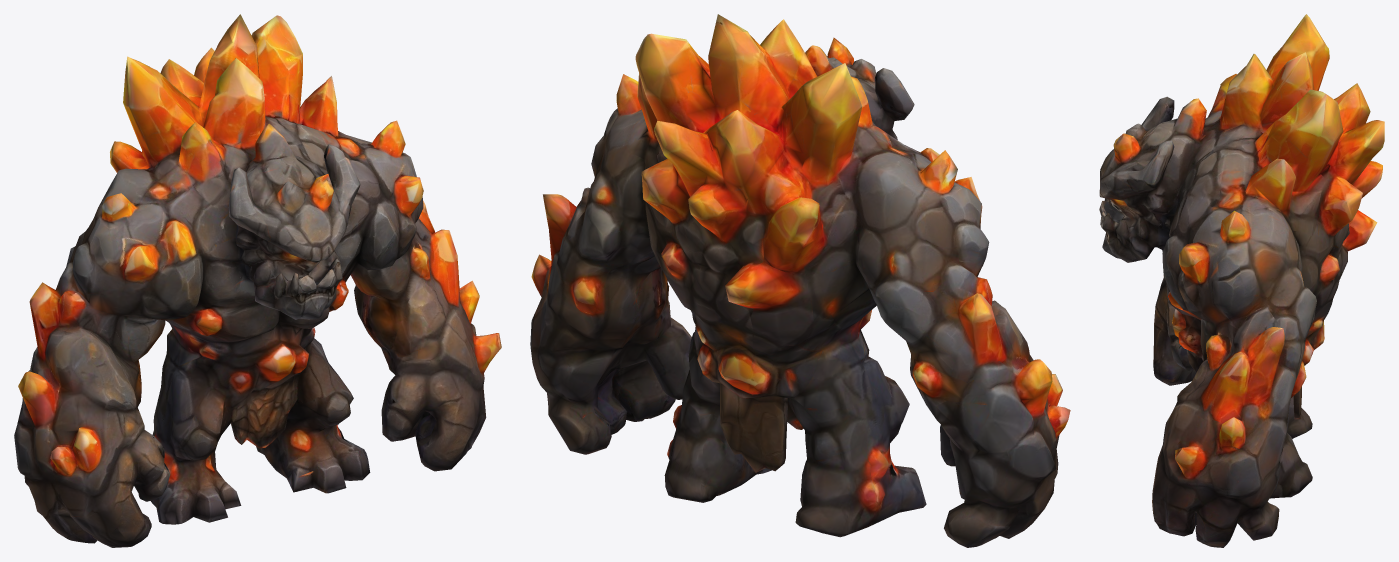
Rendered from mf_golem.glb.
The picture shows the model from 3 angles, left to right: view 1: azimuth 30°, elevation 25°; view 2: azimuth 150°, elevation 25°; view 3: azimuth 270°, elevation 25°; orthographic projection. The views are drawn at different scales.
Parts seen in each view (by area): view 1: Model; view 2: Model; view 3: Model.
Boxes of the visible parts, x1,y1,x2,y2 form: Model: (14, 14, 501, 547); Model: (530, 14, 1070, 547); Model: (1099, 14, 1384, 547).
Size of the model in its own units: 2 by 1.86 by 1.13.
Materials: 1 (1 with a texture image).
